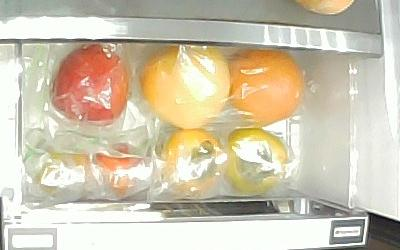apple_vinyl: (51, 45, 131, 121)
grapefruit_vinyl: (139, 46, 231, 130), (229, 50, 302, 125)
persimmon_vinyl: (225, 127, 288, 195), (164, 128, 222, 191)
